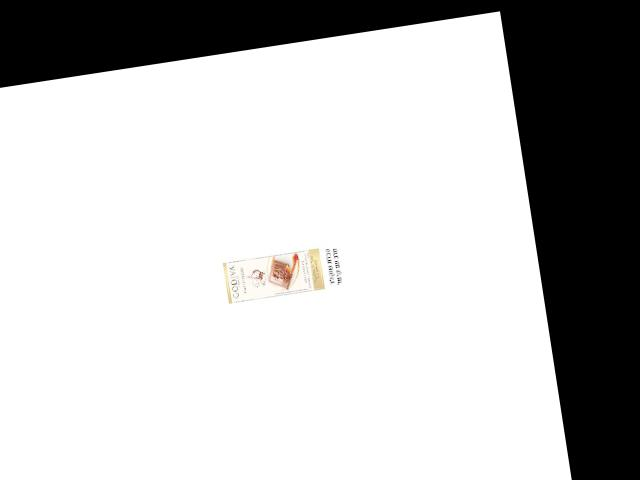chocolate: (220, 244, 328, 303)
